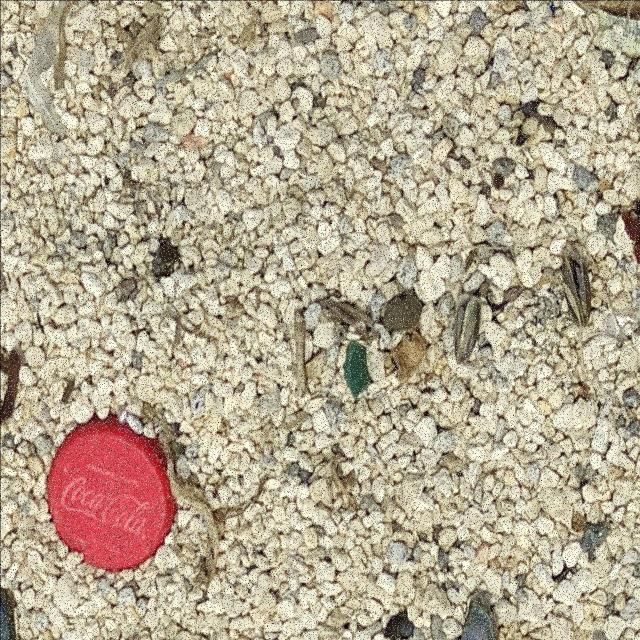plastic_waste: (47, 412, 180, 574)
